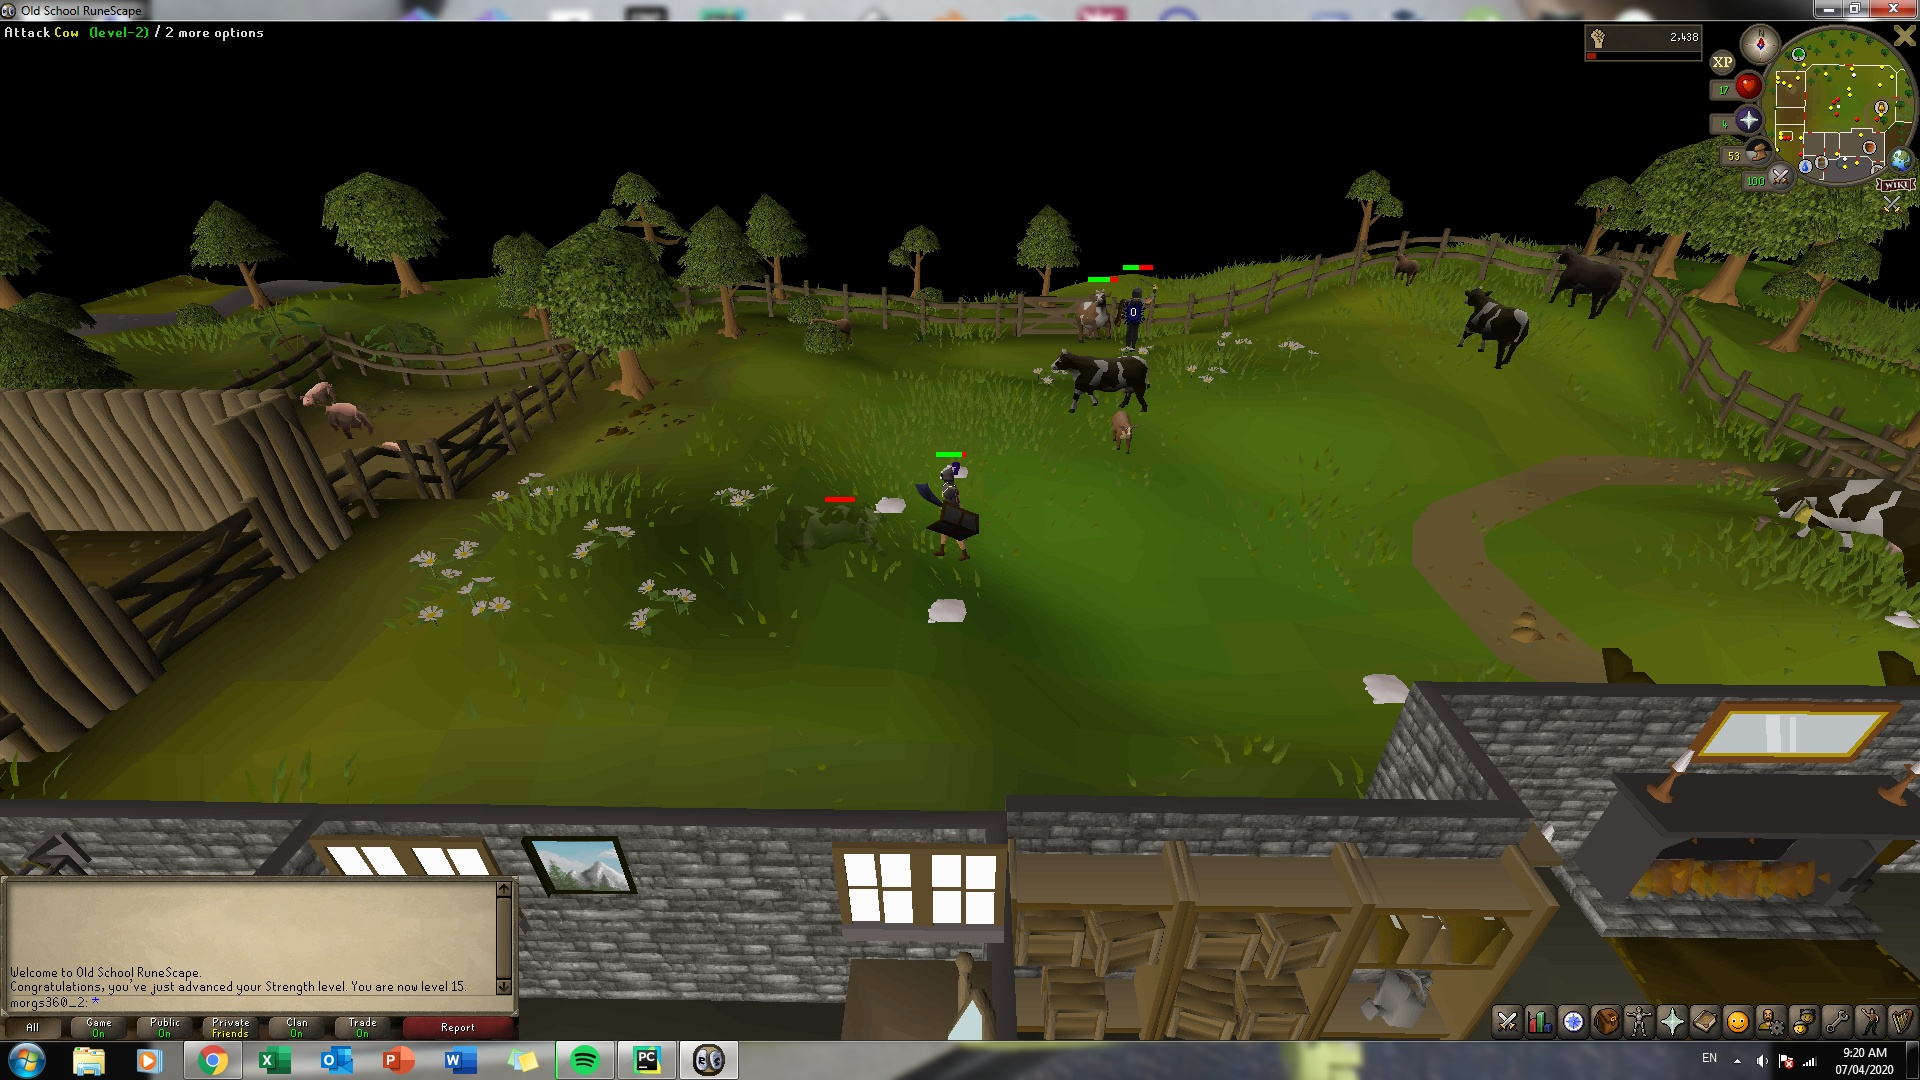cow: (1051, 347, 1154, 415), (1455, 285, 1530, 373), (1551, 244, 1623, 323), (1069, 288, 1117, 347), (1107, 404, 1138, 454), (1390, 250, 1424, 288)
player: (929, 453, 976, 566)
